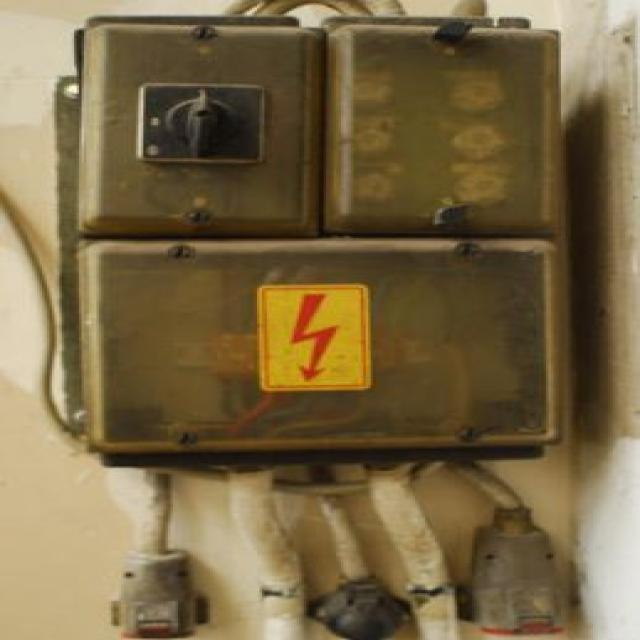electronic: (47, 0, 598, 640)
